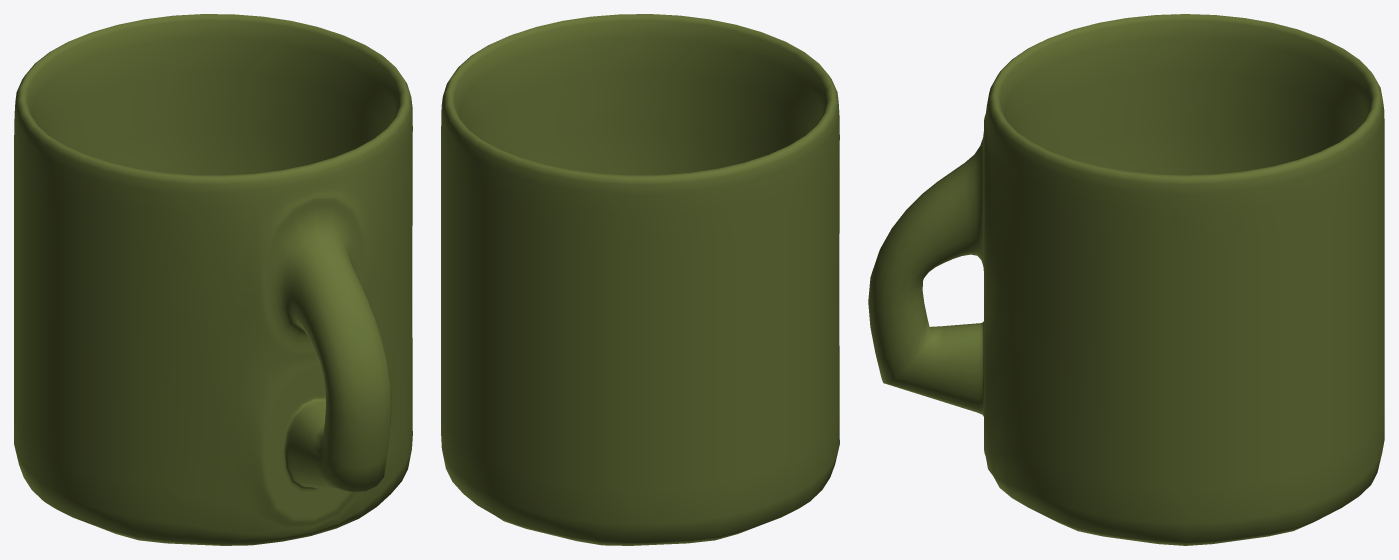
File: cup.obj
3 views of the same model, side by side, from view 1: azimuth 30°, elevation 25°; view 2: azimuth 150°, elevation 25°; view 3: azimuth 270°, elevation 25° (orthographic).
Parts seen in each view (by area): view 1: pCylinder1; view 2: pCylinder1; view 3: pCylinder1.
Part boxes in pixels (x1,y1,x2,y2): pCylinder1: (14,14,412,545); pCylinder1: (441,14,839,545); pCylinder1: (868,14,1384,545).
Size of the model in its own units: 3.76 by 3.98 by 4.87.
